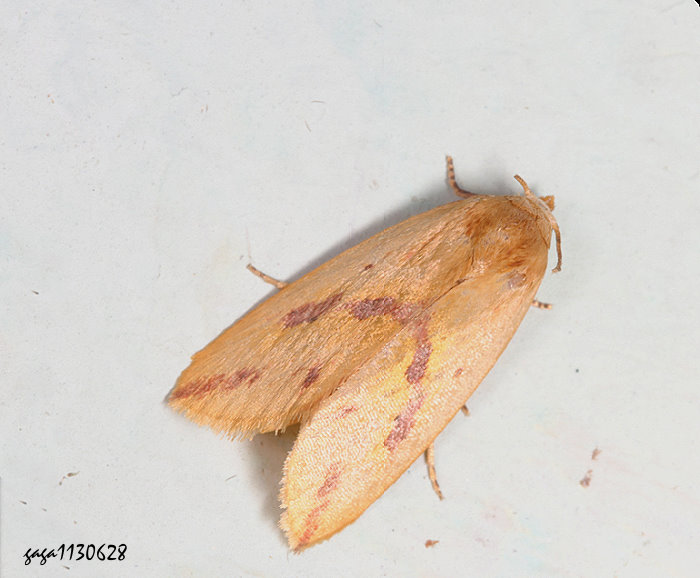Noctuidae: (160, 155, 564, 553)
